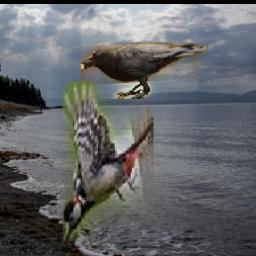Crow: (81, 43, 208, 100)
Woodpecker: (63, 81, 154, 241)
